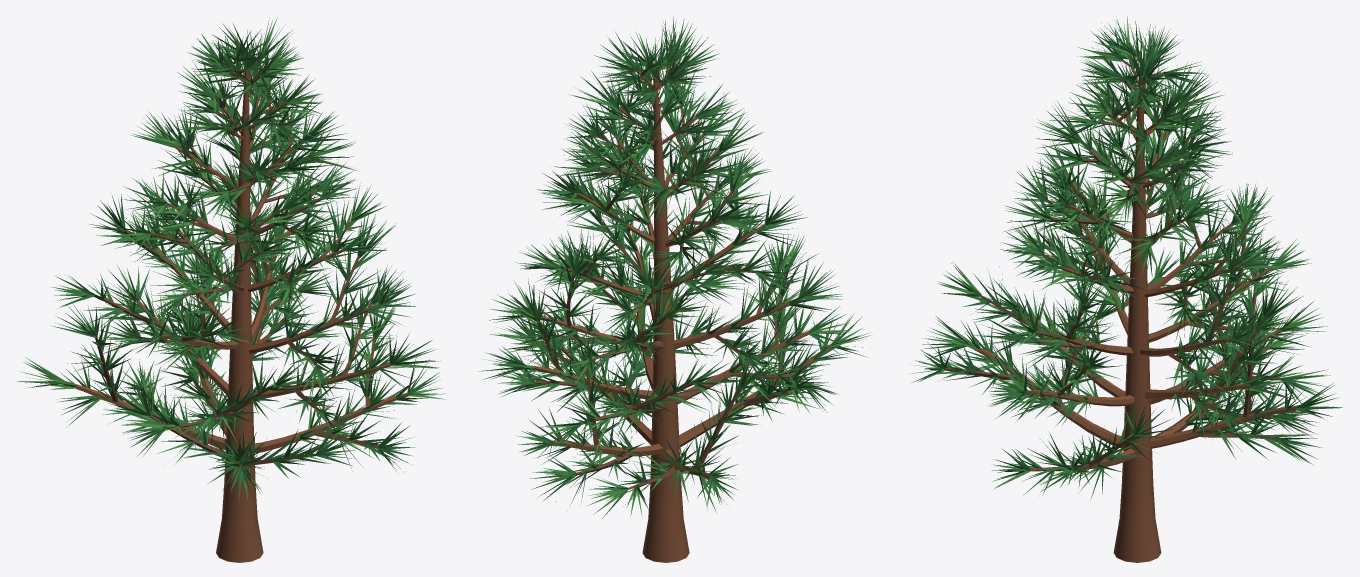
3 renders of one model, left to right at view 1: azimuth 30°, elevation 25°; view 2: azimuth 150°, elevation 25°; view 3: azimuth 270°, elevation 25°, orthographic.
Parts seen in each view (by area): view 1: body; view 2: body; view 3: body.
Part boxes in pixels (bbox=[...]): body: bbox=[17, 17, 446, 562]; body: bbox=[478, 16, 870, 562]; body: bbox=[910, 16, 1342, 562].
Size of the model in its own units: 2.12 by 3.33 by 2.49.
1 material, 1 textured.
